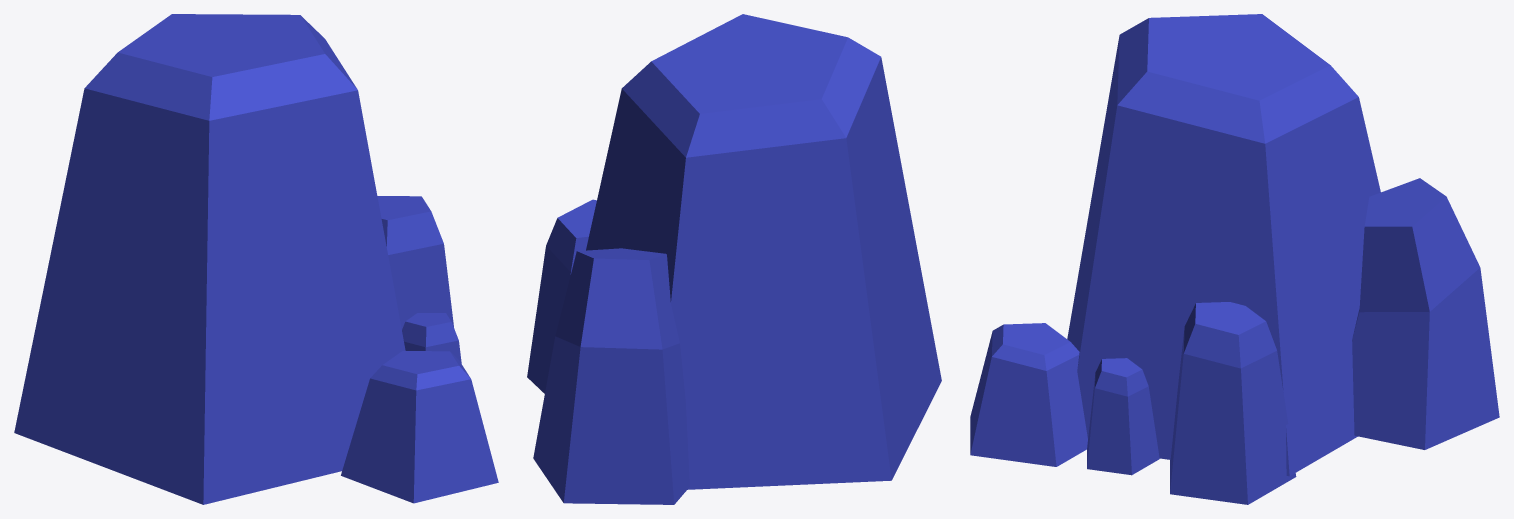
Rendered from Coral4.fbx.
The picture shows the model from 3 angles, left to right: view 1: azimuth 30°, elevation 25°; view 2: azimuth 150°, elevation 25°; view 3: azimuth 270°, elevation 25°; orthographic projection. The views are drawn at different scales.
Parts seen in each view (by area): view 1: Cylinder; view 2: Cylinder; view 3: Cylinder.
Part boxes in pixels (<box>): Cylinder: <box>14,14,498,504</box>; Cylinder: <box>527,14,941,504</box>; Cylinder: <box>970,14,1499,504</box>.
Size of the model in its own units: 152 by 139 by 186.
